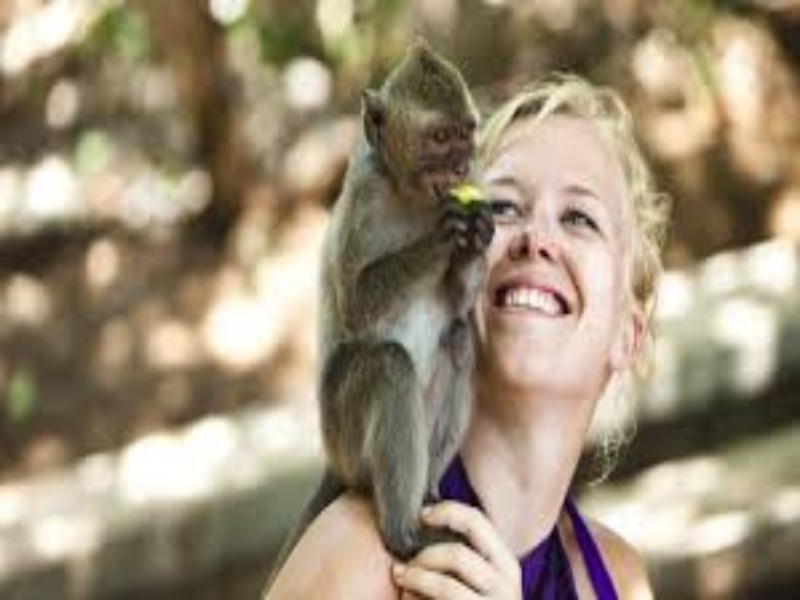monkey: (312, 38, 492, 218)
